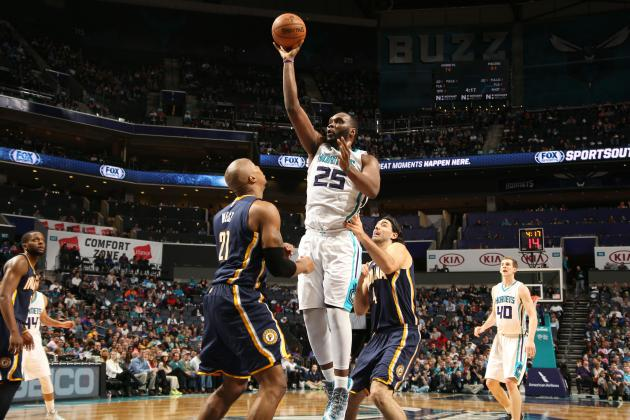basketball: (269, 10, 308, 49)
